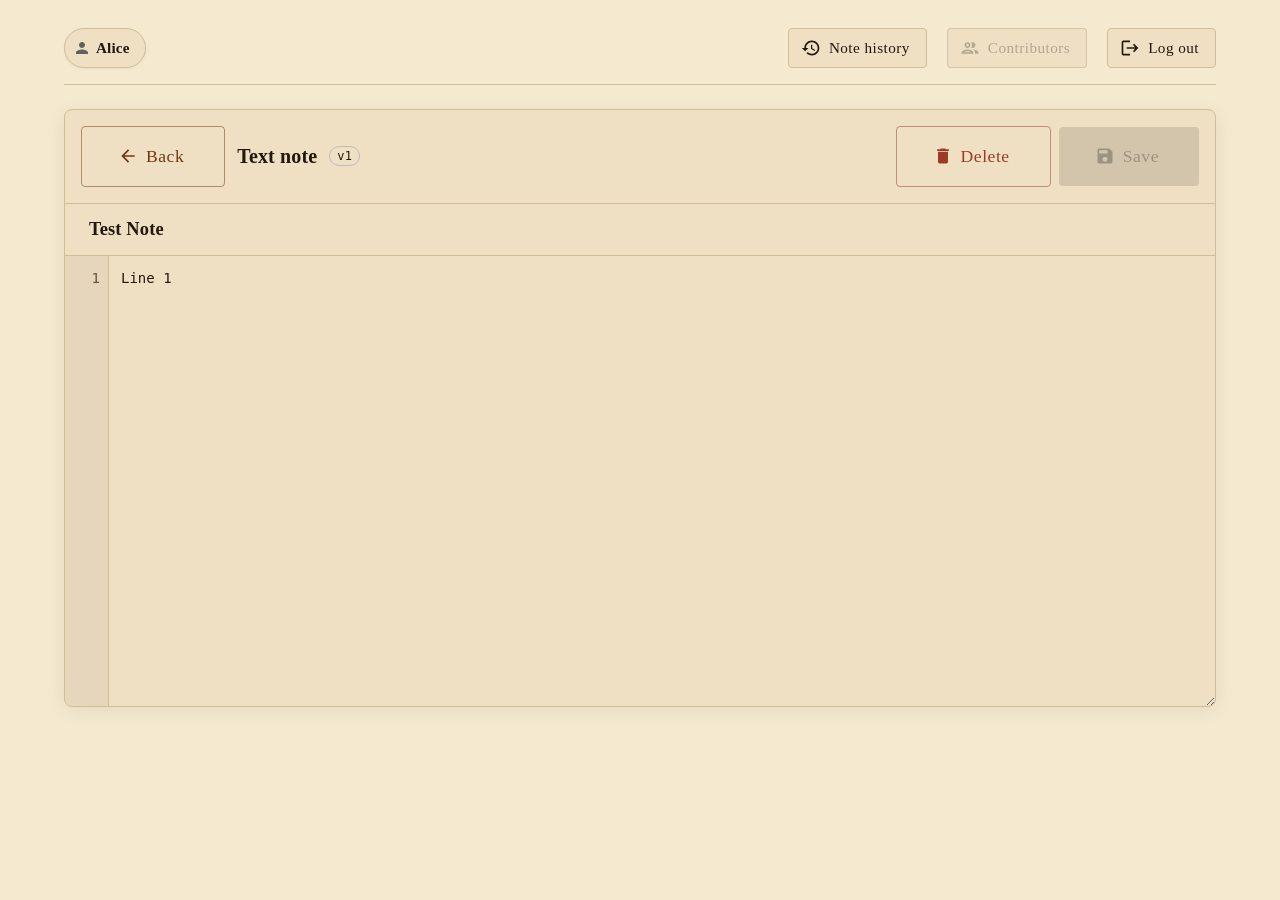
Test: NoteEditor Client Component › Delete confirmation dialog integration › opens delete confirmation dialog when Delete button is clicked in edit mode
Click the button with aria-label "Delete note".
click(973, 156)  # box [896, 126, 1051, 187]
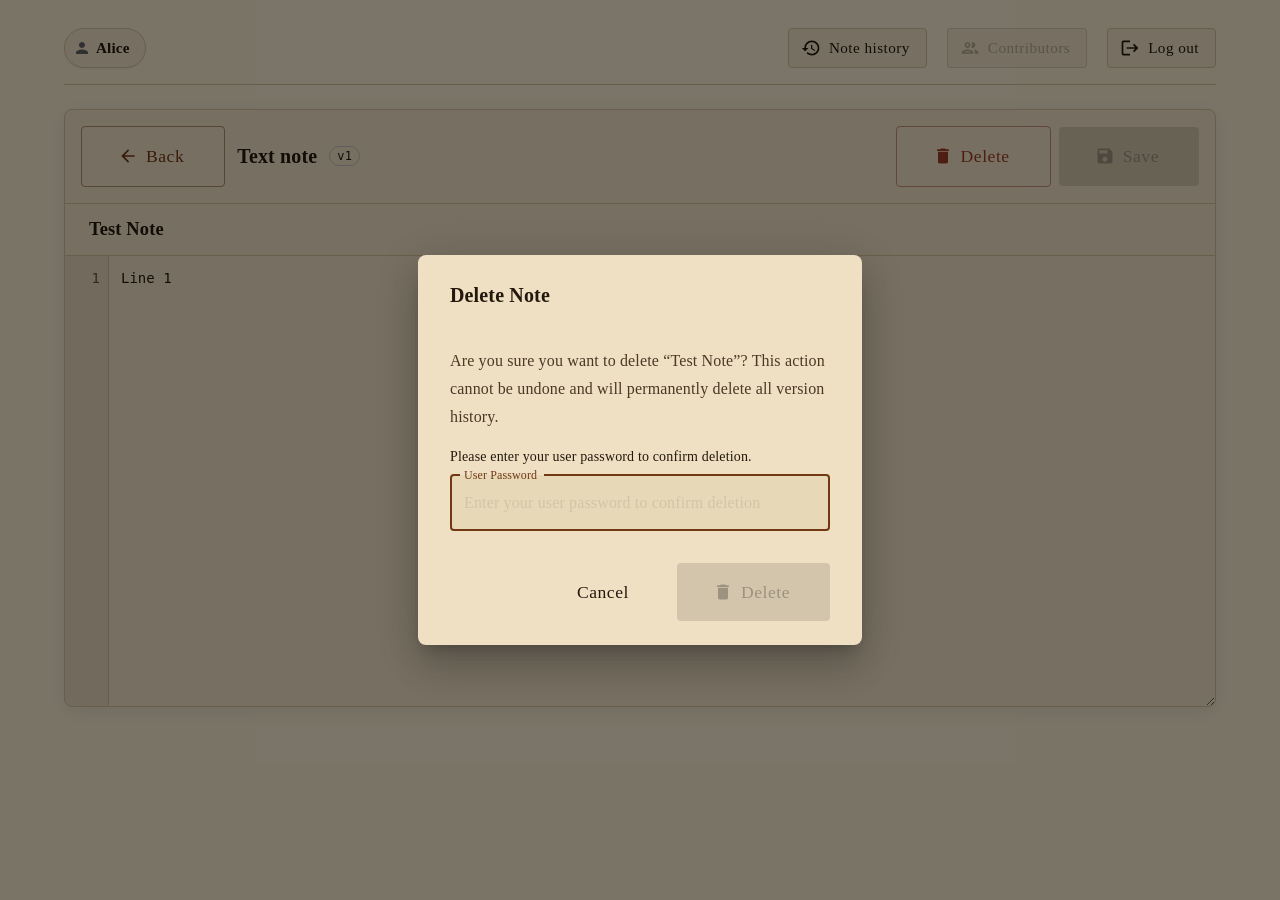
Result: the dialog is shown at [418, 255, 862, 645]
Result: the heading "Delete Note" is shown at [450, 284, 550, 306]
Click the button "Cancel".
click(603, 592)  # box [537, 563, 669, 621]
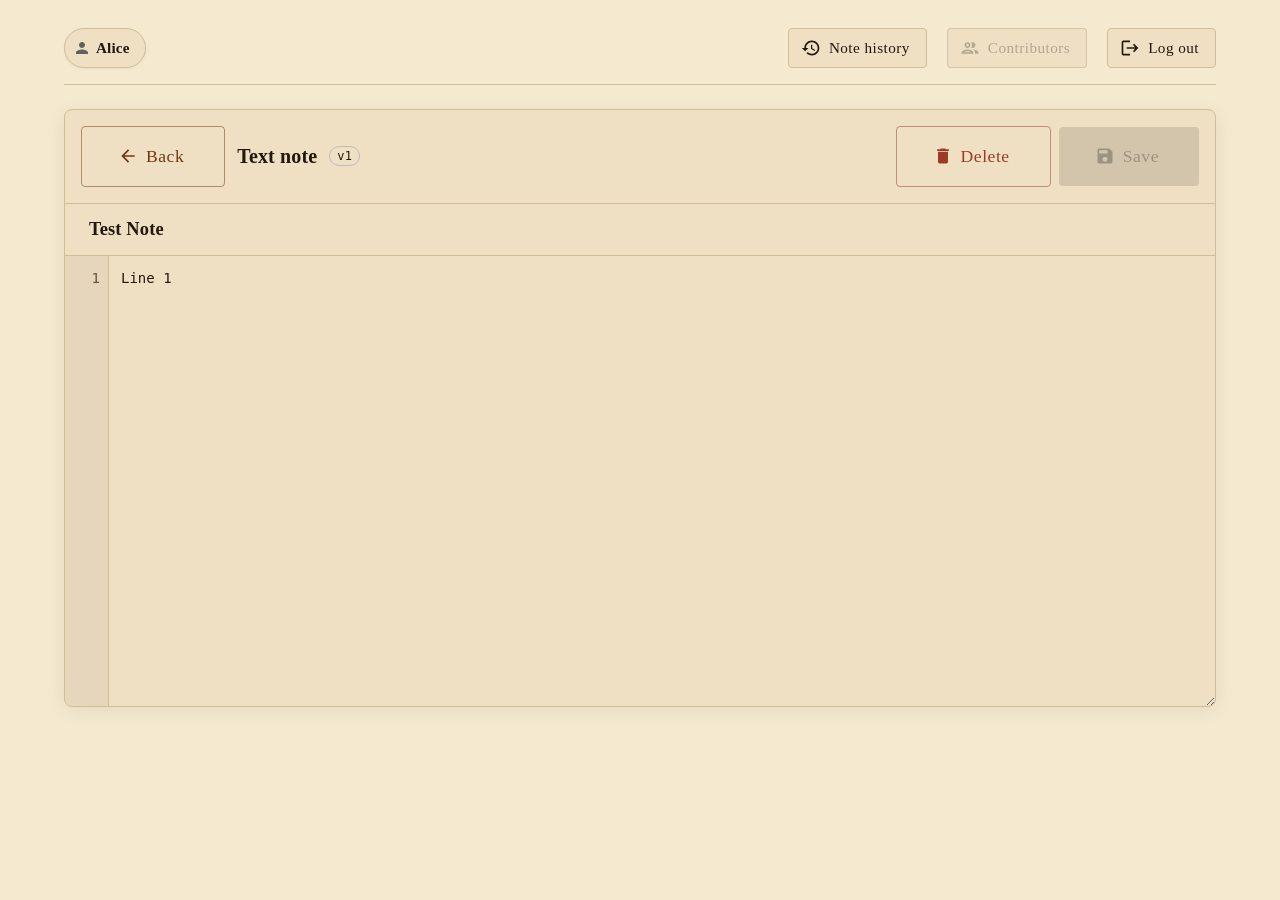
Result: the dialog is gone
